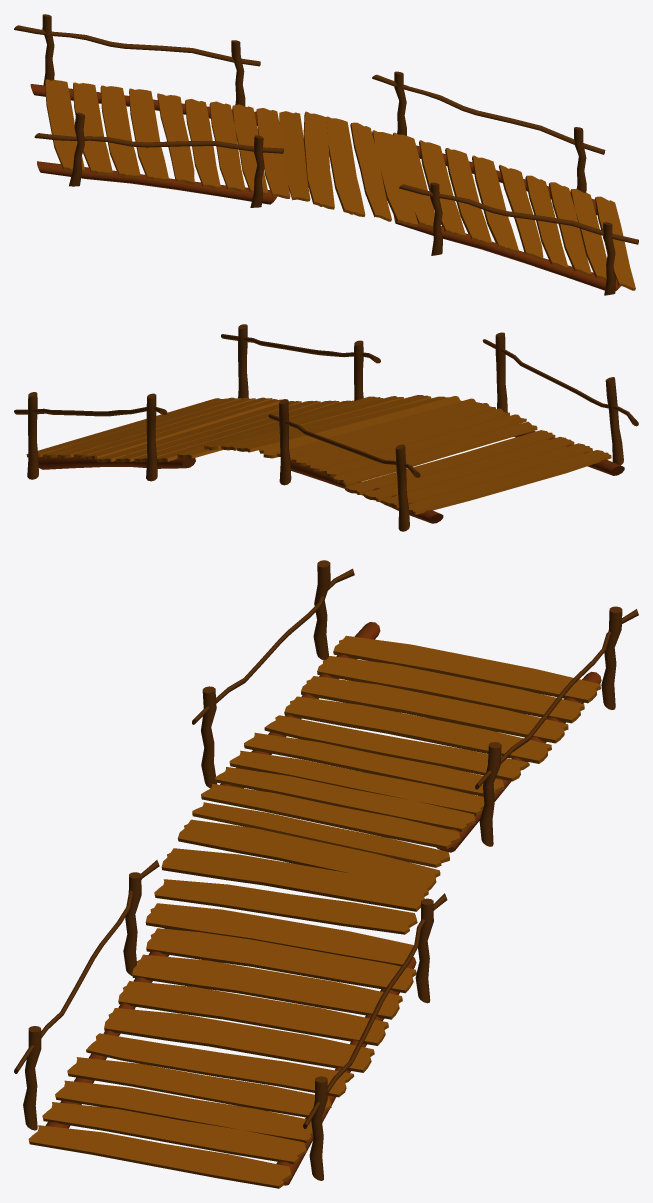
Rendered from stairs.glb.
3 renders of one model, top to bottom at view 1: azimuth 30°, elevation 25°; view 2: azimuth 150°, elevation 25°; view 3: azimuth 270°, elevation 25°, orthographic. The views are drawn at different scales.
Parts seen in each view (by area): view 1: Box166_03 - Default_0.009, Box166_03 - Default_0.008, Box078_03 - Default_0.004, Box167_03 - Default_0.004, Box166_03 - Default_0.010, Box167_03 - Default_0.003, Box078_03 - Default_0.003, Cylinder051_09 - Default_0.047, Box080_03 - Default_0.004, Box166_03 - Default_0.007, Box171_03 - Default_0.012, Box063_03 - Default_0.004 (+26 smaller); view 2: Box166_03 - Default_0.007, Box080_03 - Default_0.004, Box167_03 - Default_0.004, Box078_03 - Default_0.004, Box063_03 - Default_0.004, Box170_03 - Default_0.004, Box062_03 - Default_0.004, Box171_03 - Default_0.009, Box171_03 - Default_0.010, Box171_03 - Default_0.011, Box063_03 - Default_0.003, Box166_03 - Default_0.009 (+26 smaller); view 3: Box078_03 - Default_0.003, Box167_03 - Default_0.003, Box080_03 - Default_0.003, Box166_03 - Default_0.006, Box166_03 - Default_0.009, Box166_03 - Default_0.010, Box166_03 - Default_0.008, Box171_03 - Default_0.008, Box171_03 - Default_0.005, Box063_03 - Default_0.003, Box171_03 - Default_0.012, Box062_03 - Default_0.003 (+23 smaller).
Part boxes in pixels (box(x1,y1,x2,y2)): Box166_03 - Default_0.009: box(326, 116, 365, 216); Box166_03 - Default_0.008: box(303, 111, 334, 209); Box078_03 - Default_0.004: box(129, 88, 168, 181); Box167_03 - Default_0.004: box(100, 85, 140, 178); Box166_03 - Default_0.010: box(372, 130, 418, 226); Box167_03 - Default_0.003: box(445, 148, 491, 245); Box078_03 - Default_0.003: box(472, 155, 518, 253); Cylinder051_09 - Default_0.047: box(37, 161, 276, 204); Box080_03 - Default_0.004: box(73, 82, 112, 175); Box166_03 - Default_0.007: box(45, 79, 84, 172); Box171_03 - Default_0.012: box(350, 122, 391, 221); Box063_03 - Default_0.004: box(157, 93, 194, 184); Box166_03 - Default_0.007: box(408, 450, 611, 514); Box080_03 - Default_0.004: box(382, 443, 592, 508); Box167_03 - Default_0.004: box(363, 437, 574, 501); Box078_03 - Default_0.004: box(345, 430, 555, 494); Box063_03 - Default_0.004: box(333, 421, 537, 485); Box170_03 - Default_0.004: box(306, 408, 509, 471); Box062_03 - Default_0.004: box(322, 414, 526, 477); Box171_03 - Default_0.009: box(291, 403, 495, 465); Box171_03 - Default_0.010: box(277, 398, 481, 460); Box171_03 - Default_0.011: box(259, 396, 461, 458); Box063_03 - Default_0.003: box(84, 399, 281, 459); Box166_03 - Default_0.009: box(221, 395, 431, 450); Box078_03 - Default_0.003: box(104, 1008, 374, 1072); Box167_03 - Default_0.003: box(118, 981, 388, 1045); Box080_03 - Default_0.003: box(132, 954, 402, 1019); Box166_03 - Default_0.006: box(146, 928, 416, 993); Box166_03 - Default_0.009: box(161, 848, 428, 911); Box166_03 - Default_0.010: box(145, 903, 413, 966); Box166_03 - Default_0.008: box(177, 819, 440, 890); Box171_03 - Default_0.008: box(28, 1125, 291, 1188); Box171_03 - Default_0.005: box(42, 1102, 306, 1164); Box063_03 - Default_0.003: box(86, 1033, 354, 1097); Box171_03 - Default_0.012: box(154, 879, 417, 934); Box062_03 - Default_0.003: box(67, 1057, 331, 1117).
Size of the model in its own units: 23.13 by 8.54 by 16.55.
